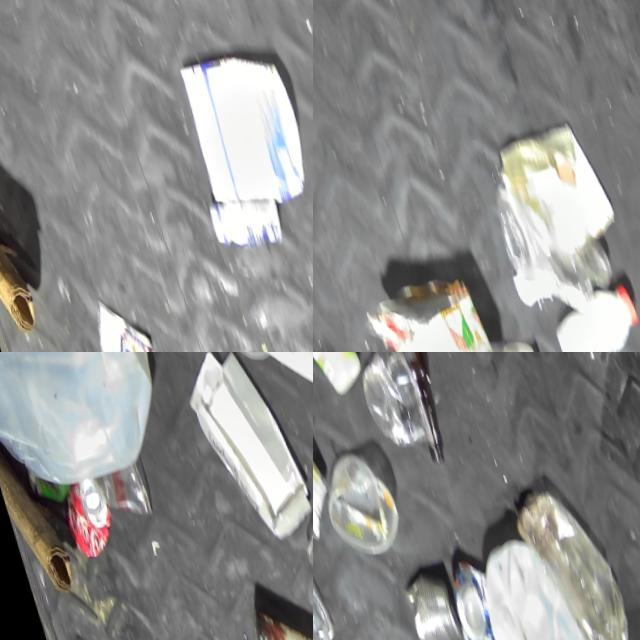can: (42, 466, 118, 566), (427, 537, 500, 640), (385, 550, 462, 640), (73, 289, 159, 352)
milk_jug: (0, 352, 173, 499), (454, 519, 607, 640)
plastic_bottle: (264, 418, 313, 597)
